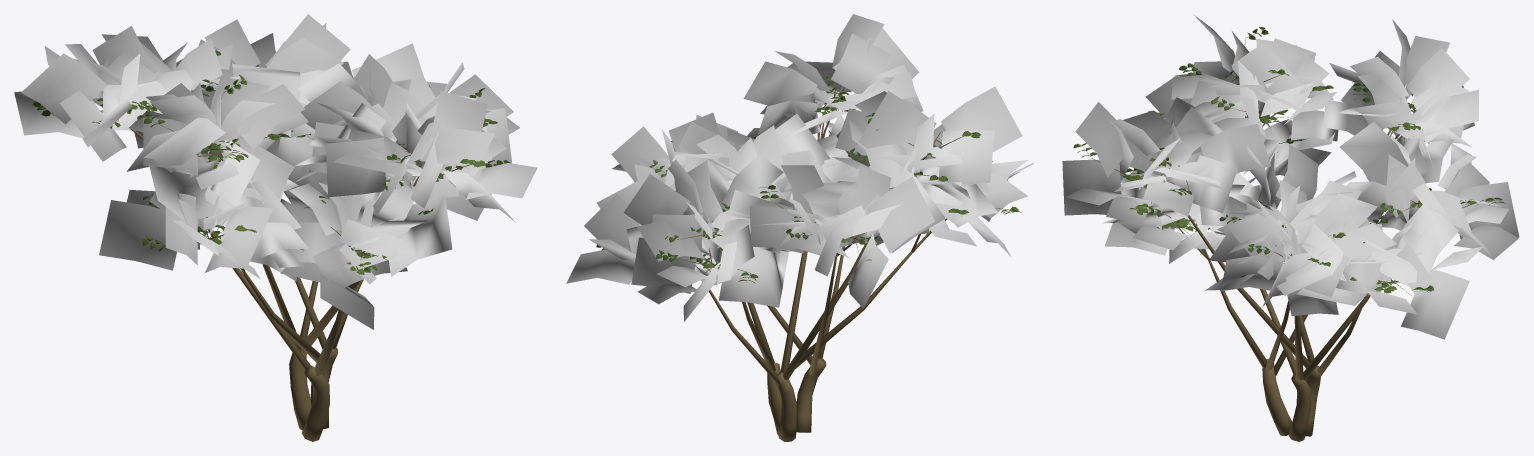
The model's file is V7_Lentisque_2_Niveau0.fbx.
The picture shows the model from 3 angles, left to right: view 1: azimuth 30°, elevation 25°; view 2: azimuth 150°, elevation 25°; view 3: azimuth 270°, elevation 25°; orthographic projection. The views are drawn at different scales.
Parts seen in each view (by area): view 1: V7_Lentisque_2; view 2: V7_Lentisque_2; view 3: V7_Lentisque_2.
Boxes of the visible parts, x1,y1,x2,y2 form: V7_Lentisque_2: (14,14,537,441); V7_Lentisque_2: (566,14,1033,441); V7_Lentisque_2: (1062,14,1519,441).
Bounding box in the file's own units: 260 × 233 × 273.
